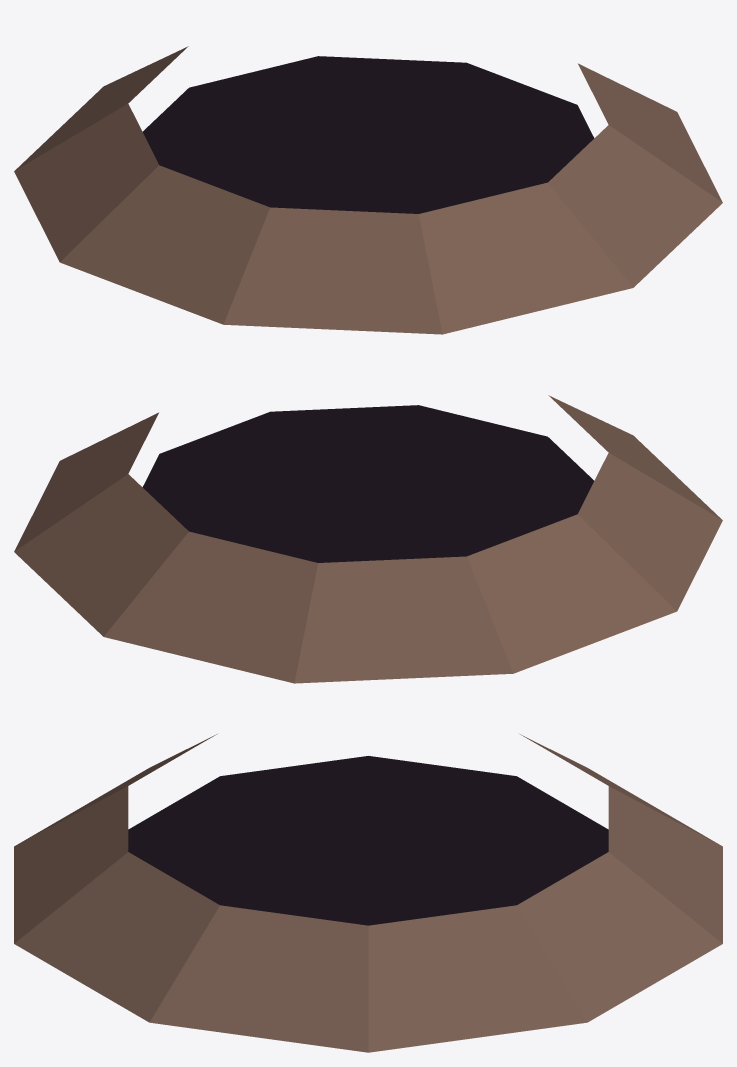
The model's file is hole.glb.
The picture shows the model from 3 angles, top to bottom: view 1: azimuth 30°, elevation 25°; view 2: azimuth 150°, elevation 25°; view 3: azimuth 270°, elevation 25°; orthographic projection. The views are drawn at different scales.
Parts seen in each view (by area): view 1: Mound, Hole; view 2: Mound, Hole; view 3: Mound, Hole.
Boxes of the visible parts, <box> form: Mound: <box>14,46,722,334</box>; Hole: <box>143,56,594,213</box>; Mound: <box>14,395,722,683</box>; Hole: <box>142,405,593,562</box>; Mound: <box>14,734,722,1052</box>; Hole: <box>128,756,608,925</box>.
Bounding box in the file's own units: 1.24 × 0.14 × 1.18.
